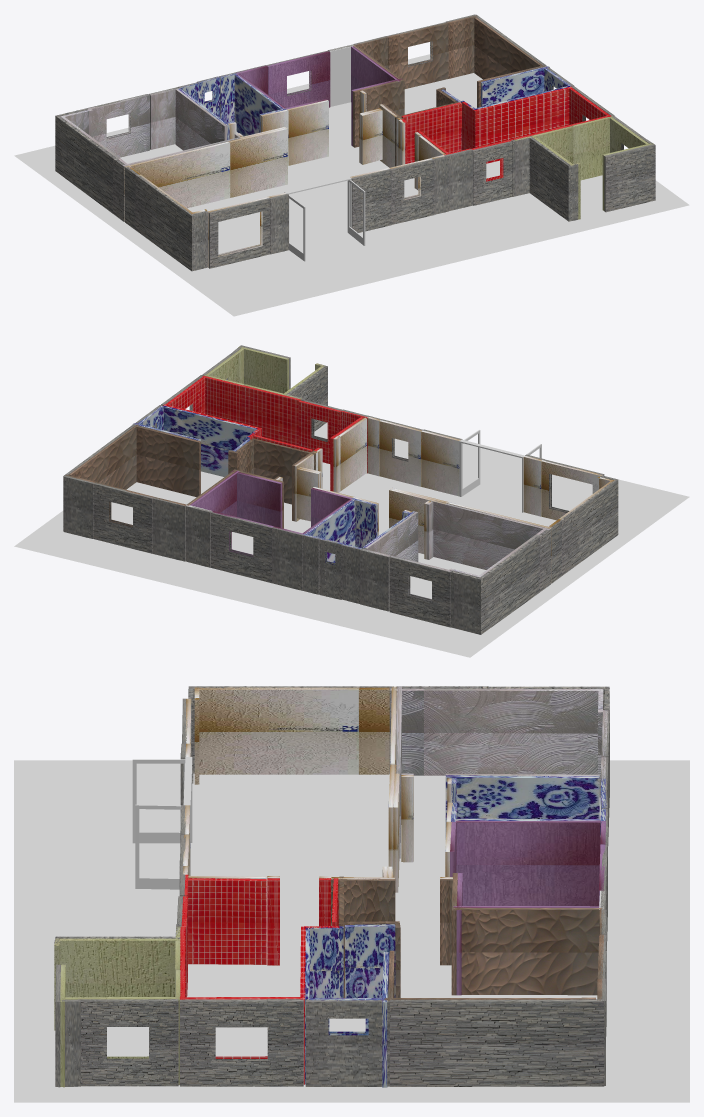
The model's file is House plant 1.FBX.
3 renders of one model, top to bottom at view 1: azimuth 30°, elevation 25°; view 2: azimuth 150°, elevation 25°; view 3: azimuth 270°, elevation 25°, orthographic. The views are drawn at different scales.
Visible parts, largest first — view 1: Plane001, Wall110, Wall030, Wall010, Wall109, Wall100, Wall048, Wall051, wWall042, wWall044, wWall043, Wall078 (+30 smaller); view 2: Plane001, Wall109, Wall072, Wall110, Wall033, wWall045, wWall047, Wall061, wWall046, Wall043, Wall103, Wall059 (+29 smaller); view 3: Plane001, Wall032, Wall107, Wall108, Wall002, Wall013, Wall112, Wall026, Wall052, Wall098, Wall093, Wall007 (+19 smaller).
Boxes of the visible parts, bbox=[...] form: Plane001: bbox=[14, 54, 689, 316]; Wall110: bbox=[125, 166, 207, 271]; Wall030: bbox=[462, 86, 572, 163]; Wall010: bbox=[124, 141, 230, 221]; Wall109: bbox=[55, 108, 125, 221]; Wall100: bbox=[511, 136, 578, 221]; Wall048: bbox=[229, 128, 287, 197]; Wall051: bbox=[604, 144, 655, 212]; wWall042: bbox=[387, 22, 448, 88]; wWall044: bbox=[87, 94, 149, 157]; wWall043: bbox=[267, 51, 330, 107]; Wall078: bbox=[287, 100, 328, 165]; Plane001: bbox=[14, 422, 689, 657]; Wall109: bbox=[450, 528, 550, 634]; Wall072: bbox=[433, 500, 550, 569]; Wall110: bbox=[550, 475, 618, 583]; Wall033: bbox=[134, 424, 200, 497]; wWall045: bbox=[389, 556, 450, 627]; wWall047: bbox=[211, 512, 271, 583]; Wall061: bbox=[163, 405, 258, 476]; wWall046: bbox=[93, 483, 152, 553]; Wall043: bbox=[242, 385, 300, 445]; Wall103: bbox=[228, 438, 315, 504]; Wall059: bbox=[69, 424, 138, 489]; Plane001: bbox=[14, 760, 689, 1102]; Wall032: bbox=[390, 999, 604, 1086]; Wall107: bbox=[390, 688, 603, 797]; Wall108: bbox=[194, 687, 389, 784]; Wall002: bbox=[455, 820, 600, 906]; Wall013: bbox=[453, 907, 601, 995]; Wall112: bbox=[179, 999, 303, 1086]; Wall026: bbox=[78, 999, 178, 1086]; Wall052: bbox=[54, 926, 180, 1030]; Wall098: bbox=[188, 878, 266, 964]; Wall093: bbox=[305, 999, 390, 1086]; Wall007: bbox=[445, 775, 599, 839].
Size of the model in its own units: 828 by 99.24 by 691.
Materials: 10 (10 with a texture image).
